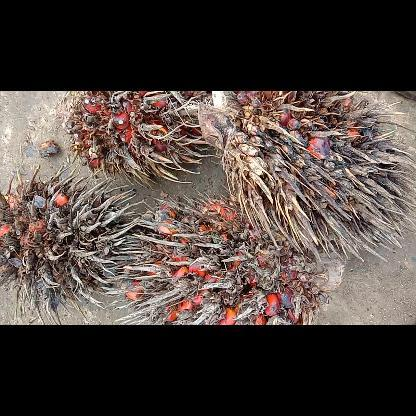Terlalu masak: (193, 90, 414, 274), (105, 196, 354, 324), (0, 158, 152, 324), (56, 90, 240, 192)
